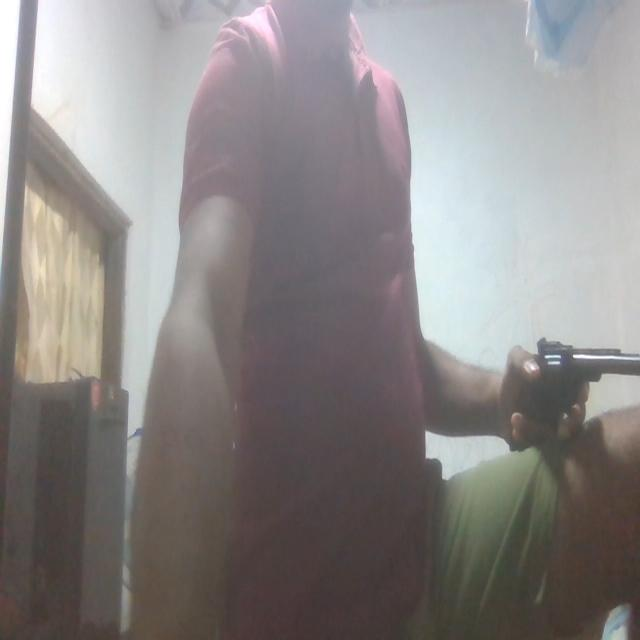Gun_Holder: (507, 318, 640, 462)
Person: (142, 7, 640, 640)
